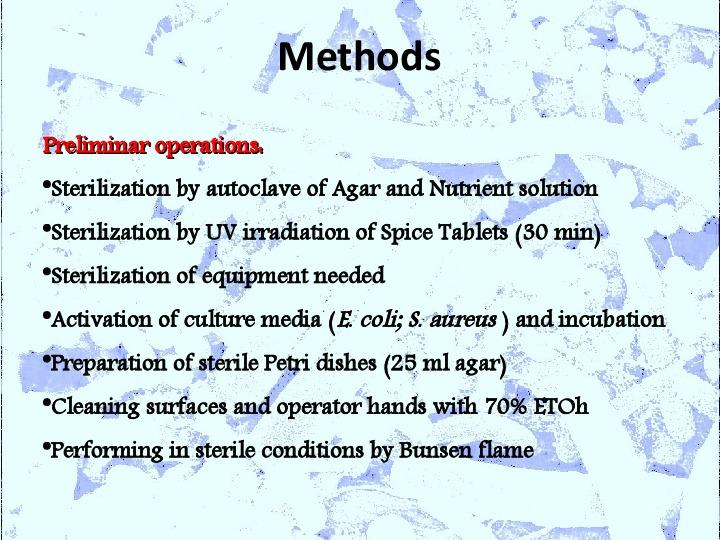paragraph: (25, 165, 711, 500)
subtitle: (35, 130, 279, 161)
title: (270, 31, 475, 80)
